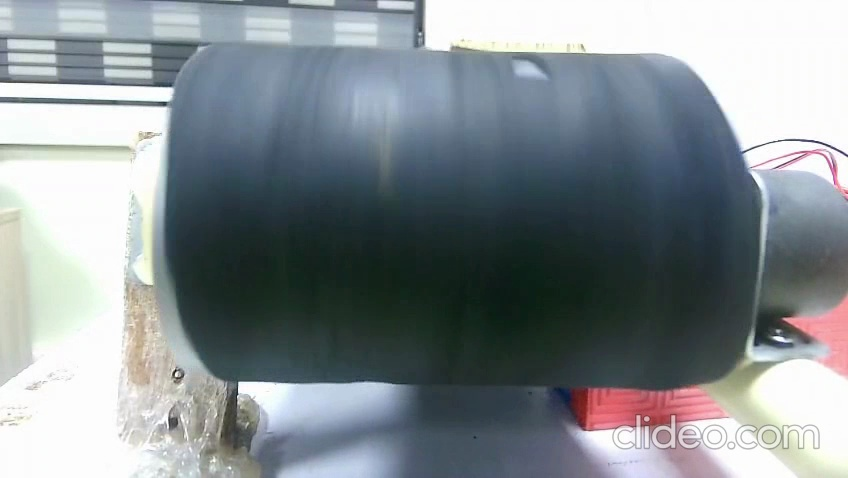hole: (506, 53, 544, 81)
